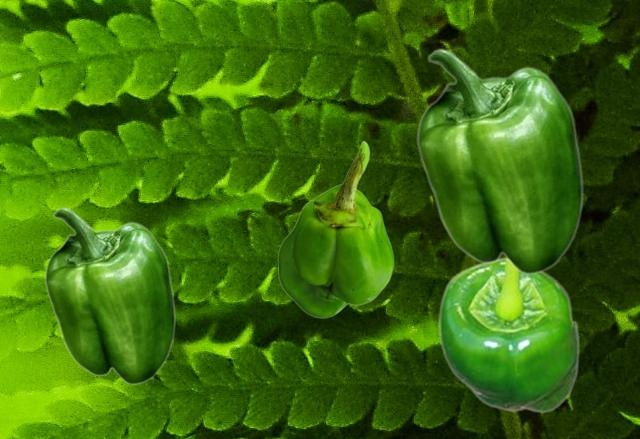bell_pepper: (416, 48, 583, 274), (44, 207, 175, 384), (437, 256, 579, 412), (277, 140, 393, 317)
